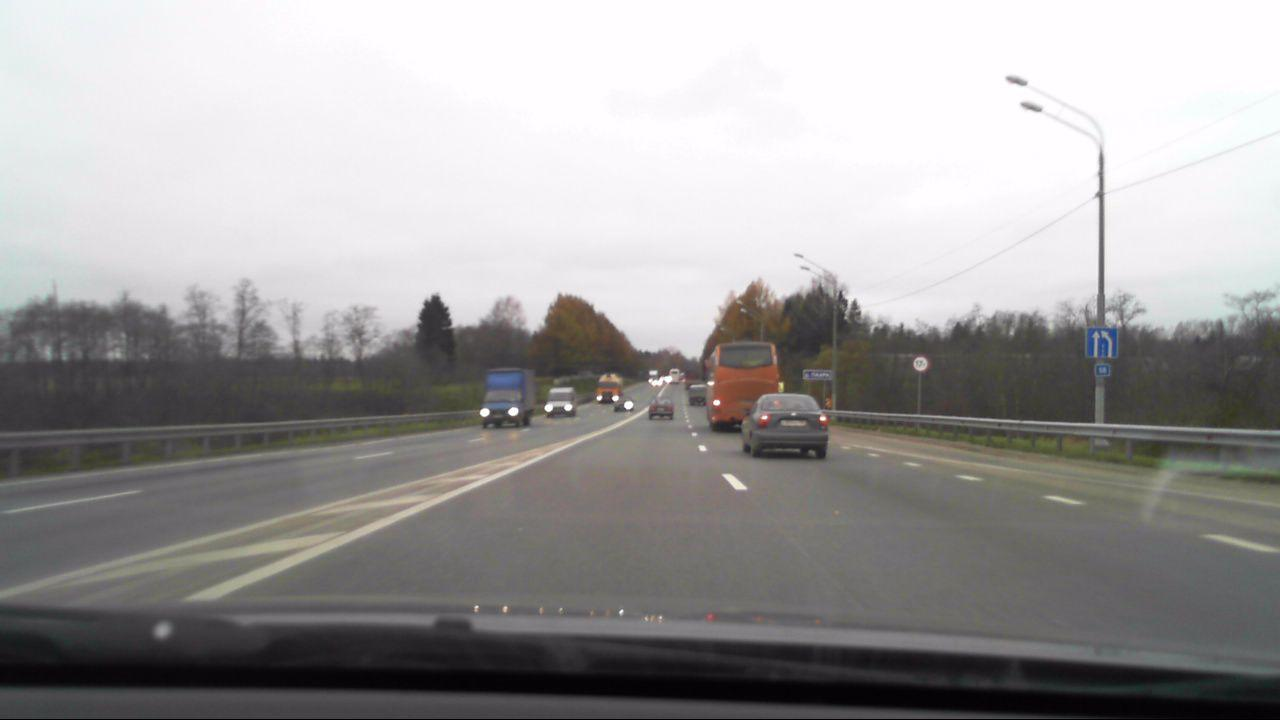3_11: (912, 355, 928, 371)
5_15_5: (1085, 328, 1116, 359)
